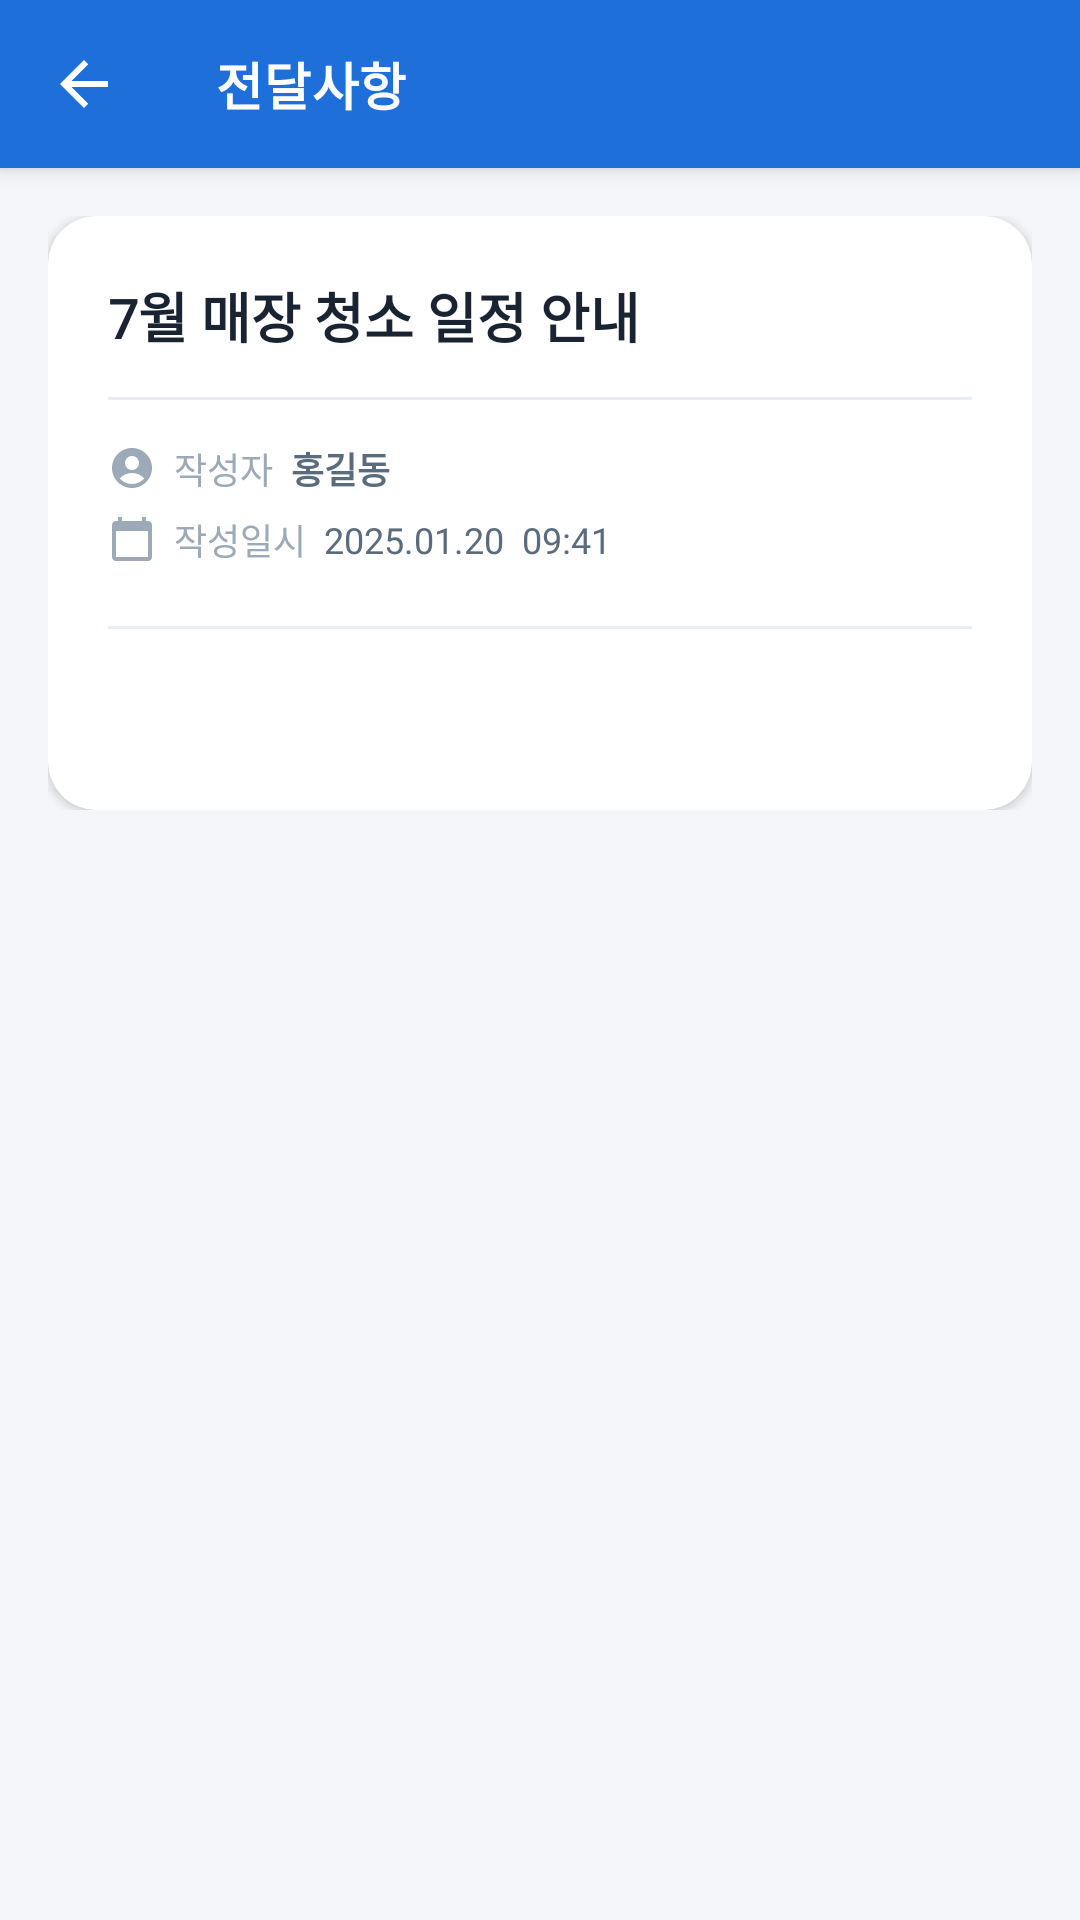

Point at icon controls on the screen. Image size 1080×1920, points as point (x, y).
작성시간: point (132, 539)
